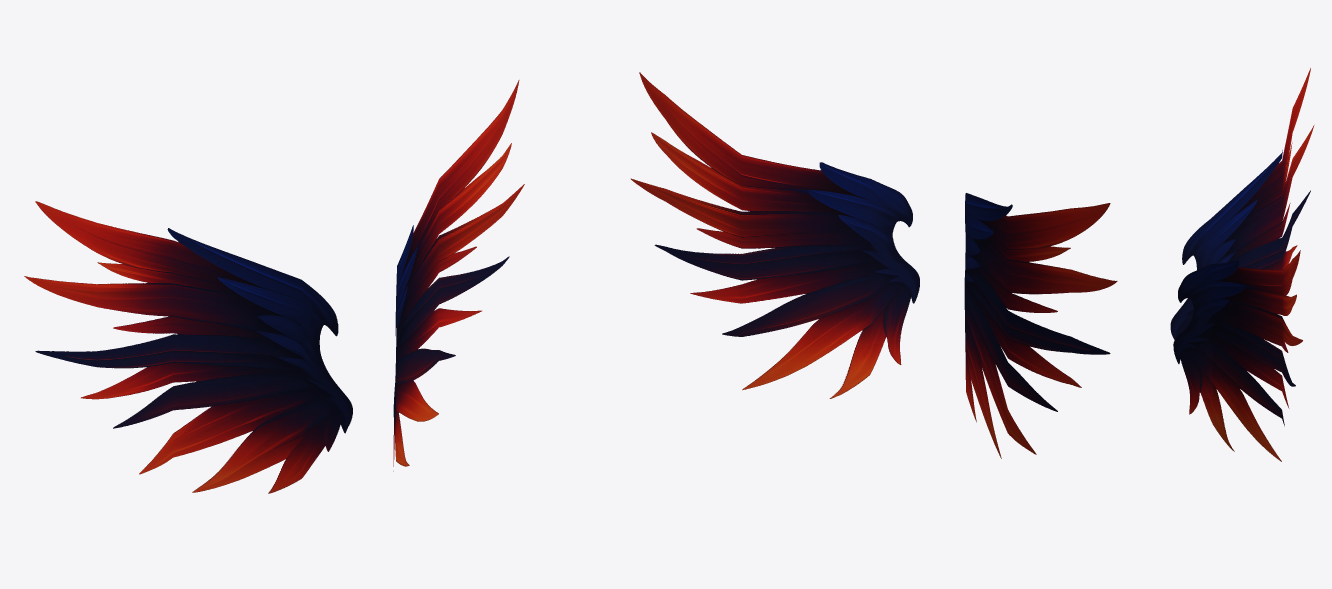
The model's file is canh21.fbx.
The picture shows the model from 3 angles, left to right: view 1: azimuth 30°, elevation 25°; view 2: azimuth 150°, elevation 25°; view 3: azimuth 270°, elevation 25°; orthographic projection. The views are drawn at different scales.
Visible parts, largest first — view 1: canh21; view 2: canh21; view 3: canh21.
Boxes of the visible parts, box(x1,y1,x2,y2) form: canh21: box(24, 80, 524, 493); canh21: box(631, 72, 1117, 458); canh21: box(1170, 68, 1314, 461).
Size of the model in its own units: 1.73 by 1.29 by 0.56.
